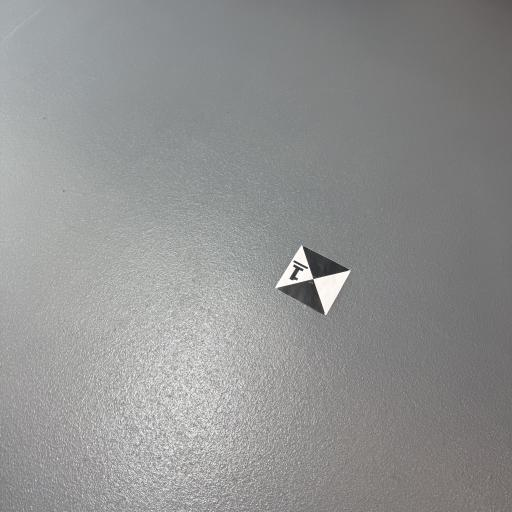target1: (272, 239, 357, 316)
